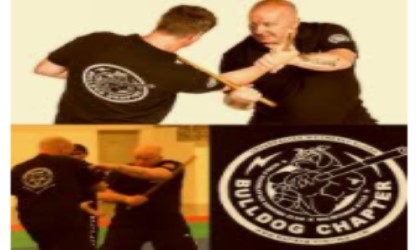baston_e: (183, 54, 263, 107), (320, 147, 394, 186), (148, 155, 191, 198)
baston_v: (391, 140, 412, 160), (260, 93, 279, 113), (187, 150, 200, 163), (122, 204, 133, 210)
